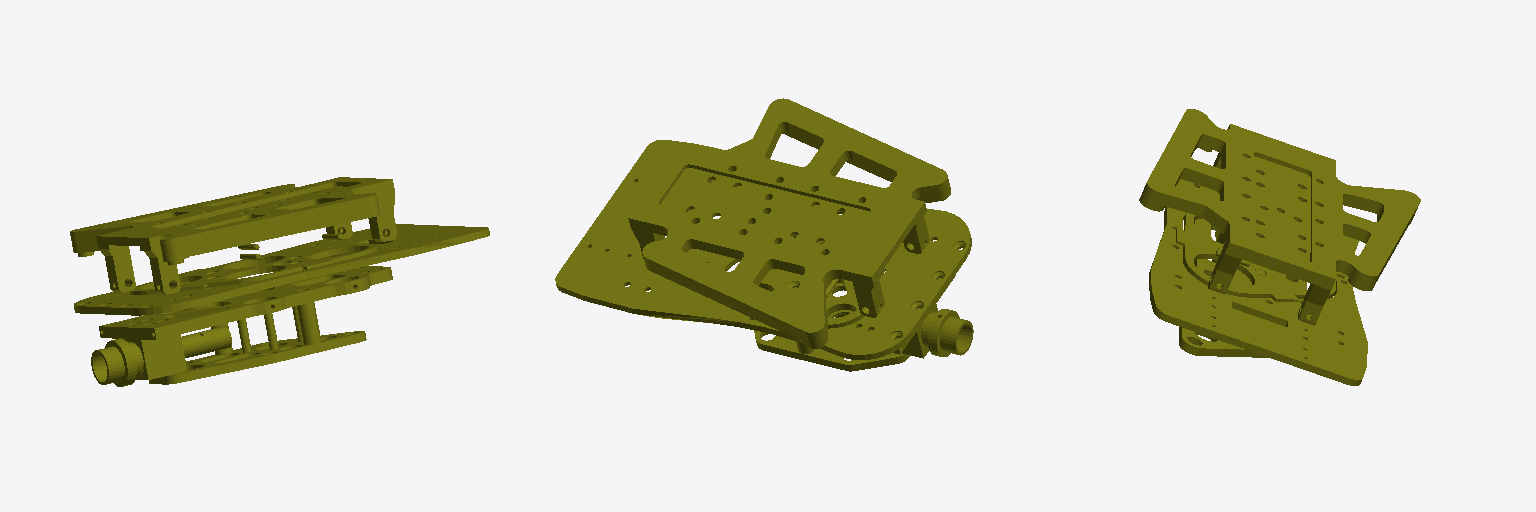
The picture shows the model from 3 angles: view 1: azimuth 30°, elevation 25°; view 2: azimuth 150°, elevation 25°; view 3: azimuth 270°, elevation 25°; orthographic projection.
Parts seen in each view (by area): view 1: /ambf/env/raven_2/link3_L; view 2: /ambf/env/raven_2/link3_L; view 3: /ambf/env/raven_2/link3_L.
Boxes of the visible parts, x1,y1,x2,y2 form: /ambf/env/raven_2/link3_L: [70, 177, 489, 386]; /ambf/env/raven_2/link3_L: [555, 98, 973, 371]; /ambf/env/raven_2/link3_L: [1139, 109, 1420, 385].
Bounding box in the file's own units: 0.136 × 0.0714 × 0.0941.